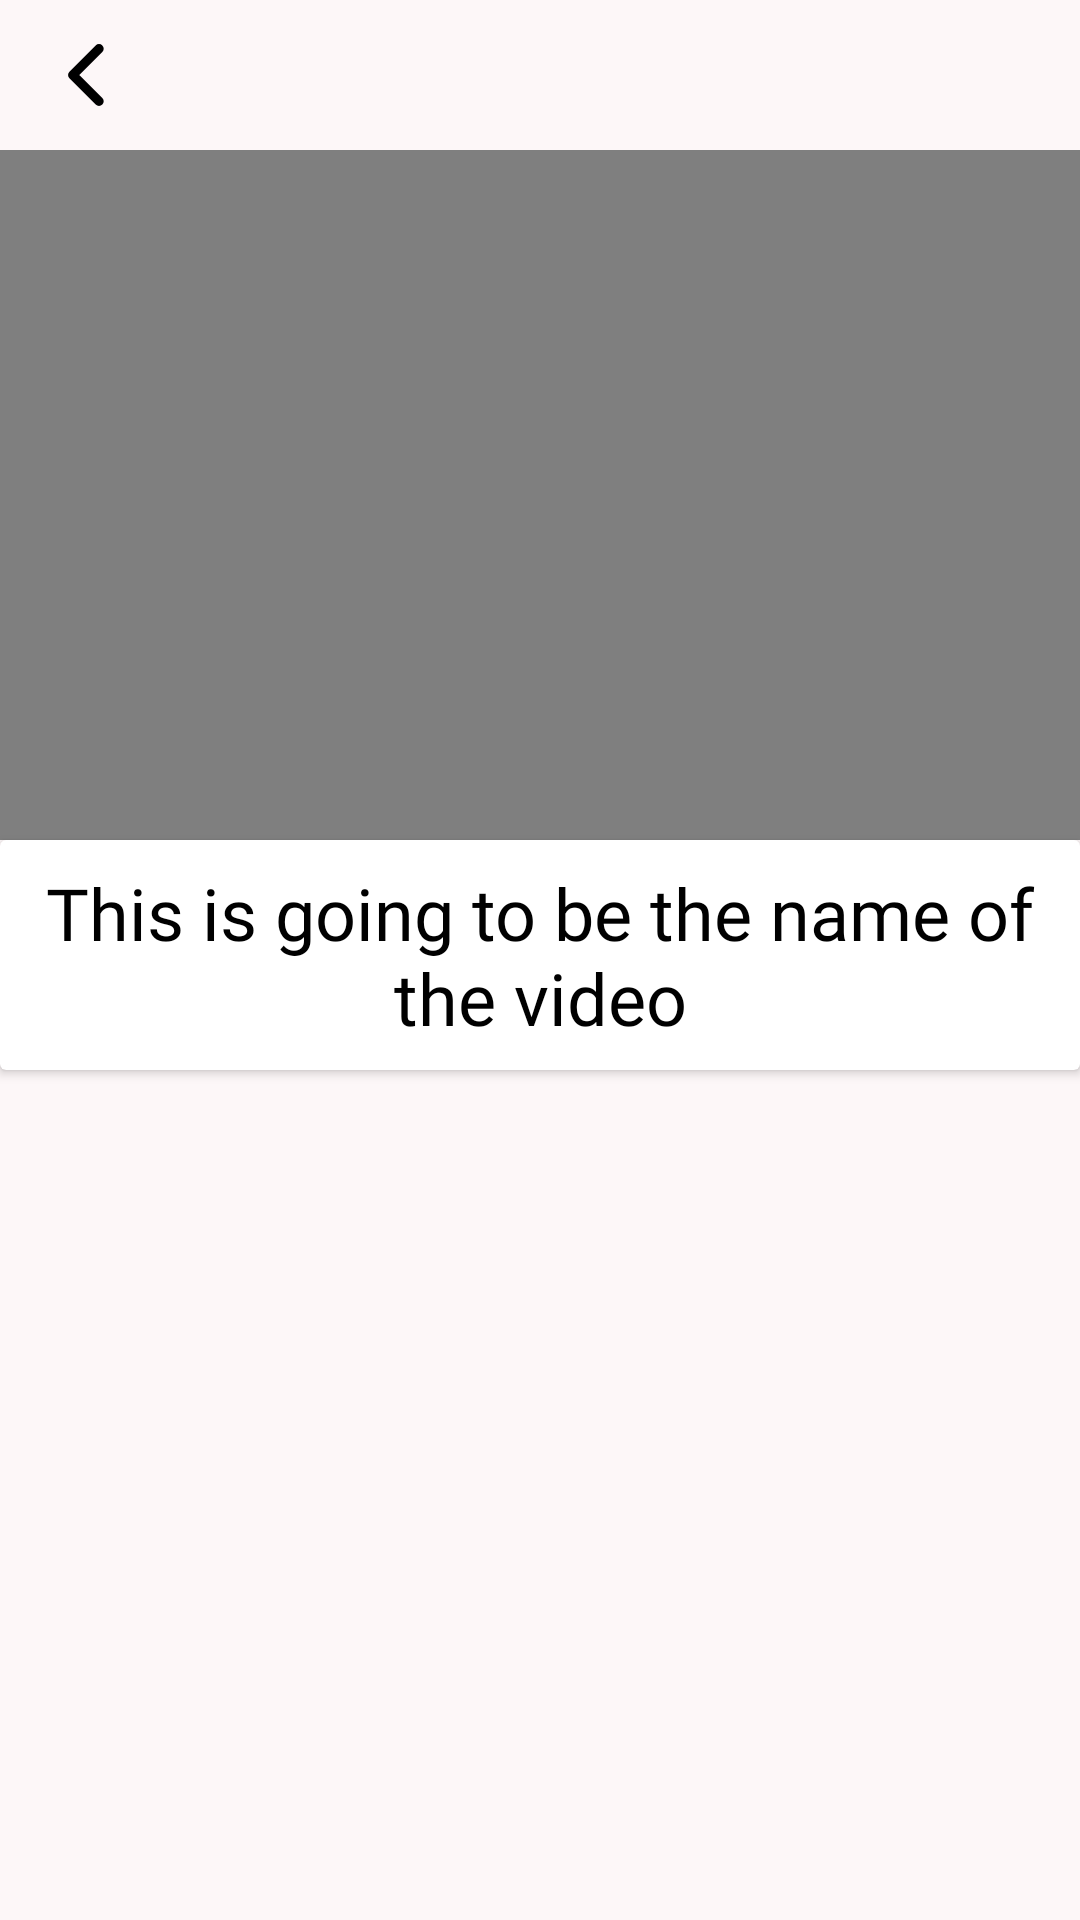

Named icons in this screenshot (1080x1920) and their bounding boxes, (x1, y1, x2, y2):
arrow left: (68, 44, 104, 106)
